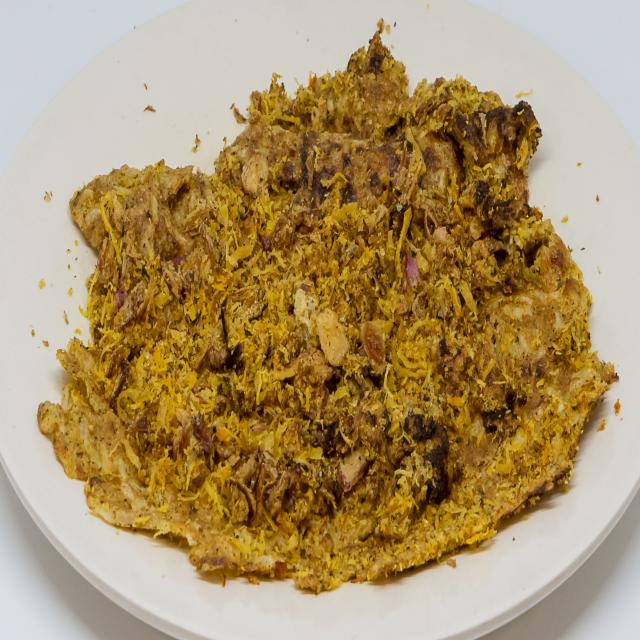Kerak-Telor: (33, 21, 623, 596)
